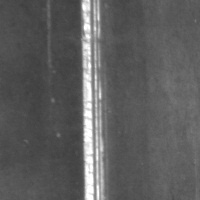scratches: (79, 1, 107, 200)
